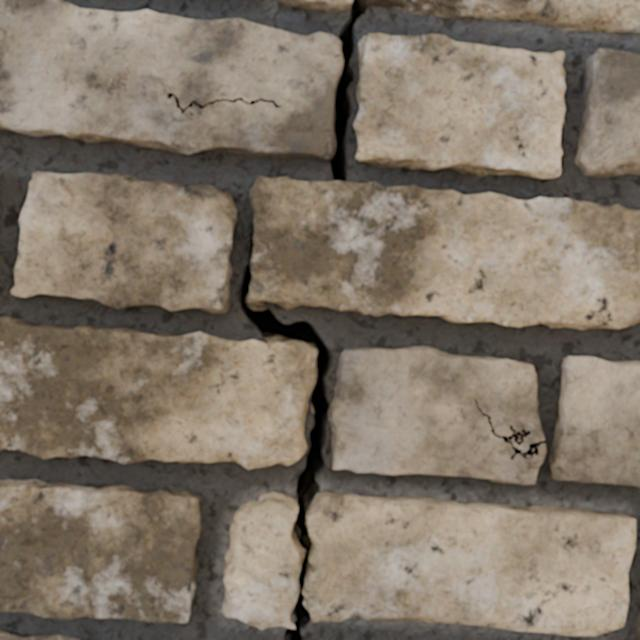broken_brick: (303, 492, 635, 635), (221, 492, 300, 629), (368, 0, 639, 33), (277, 0, 351, 11)
crack: (0, 0, 639, 639), (11, 171, 236, 313), (353, 33, 565, 178), (0, 479, 200, 623), (548, 356, 639, 487), (575, 49, 639, 177), (0, 630, 78, 639), (636, 614, 639, 639), (325, 618, 338, 619)
